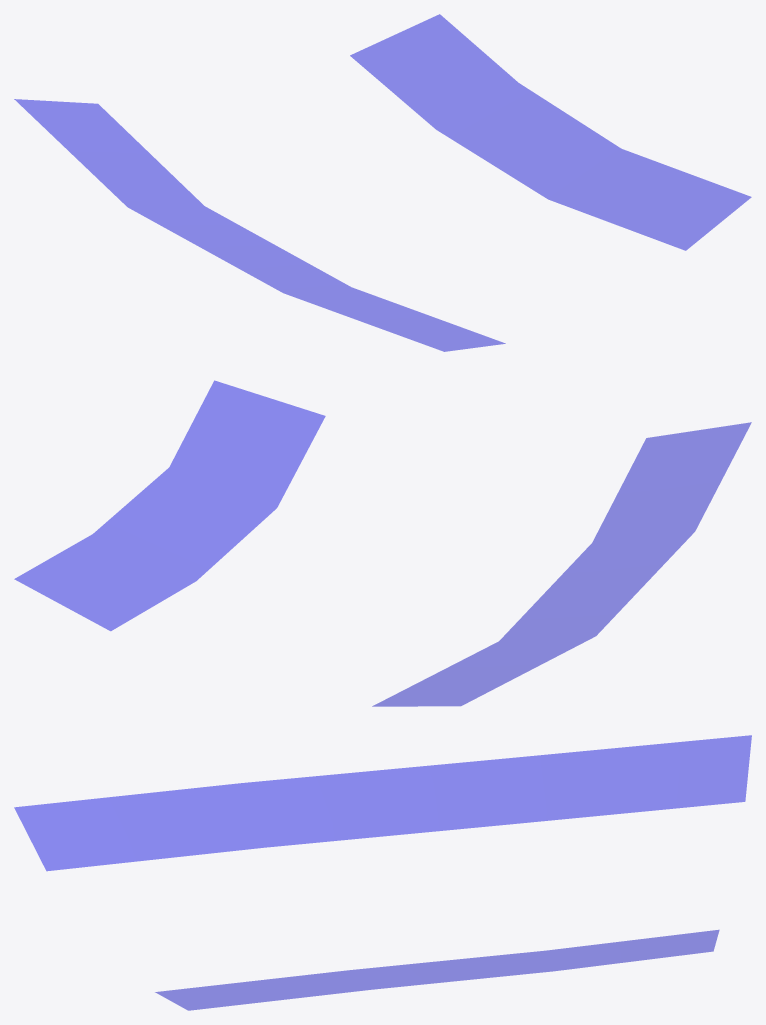
File: track_la_coll_off_17.fbx
3 views of the same model, one above another, from view 1: azimuth 30°, elevation 25°; view 2: azimuth 150°, elevation 25°; view 3: azimuth 270°, elevation 25° (orthographic). The views are drawn at different scales.
Visible parts, largest first — view 1: track_la_coll_off_17; view 2: track_la_coll_off_17; view 3: track_la_coll_off_17.
Part boxes in pixels (x1=…): track_la_coll_off_17: x1=14, y1=14, x2=751, y2=351; track_la_coll_off_17: x1=14, y1=380, x2=751, y2=706; track_la_coll_off_17: x1=14, y1=735, x2=751, y2=1010.
Size of the model in its own units: 42.26 by 4.21 by 52.31.
